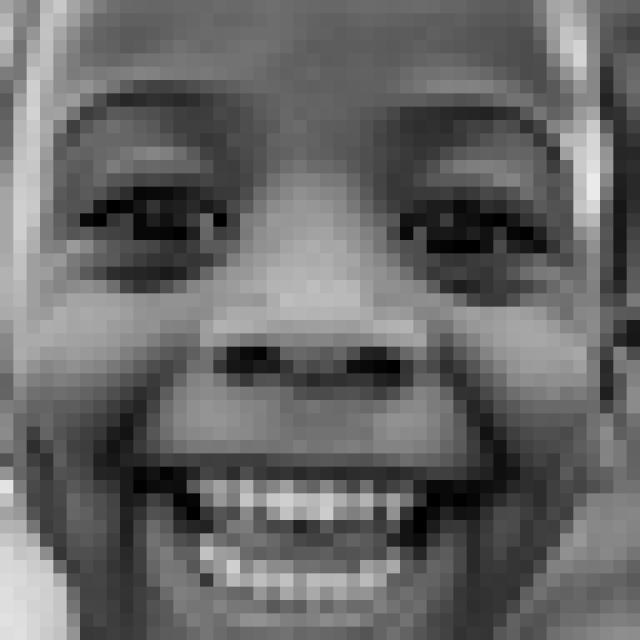happy: (42, 72, 577, 640)
